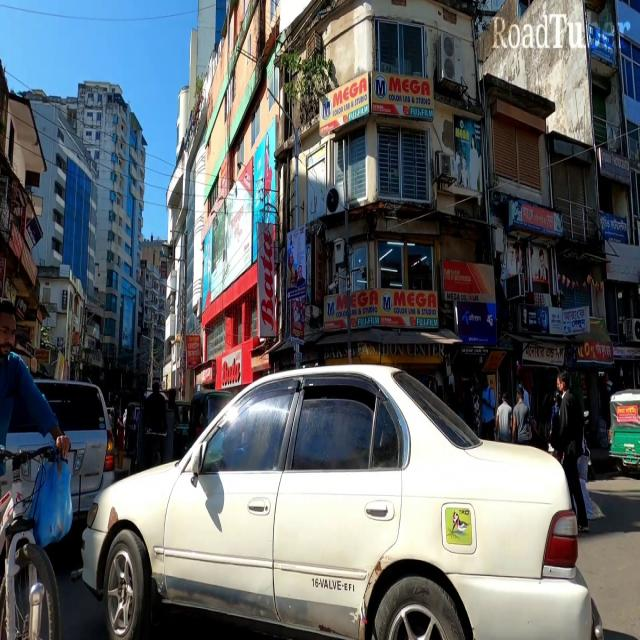silver: (0, 369, 114, 548)
white: (84, 357, 586, 640)
